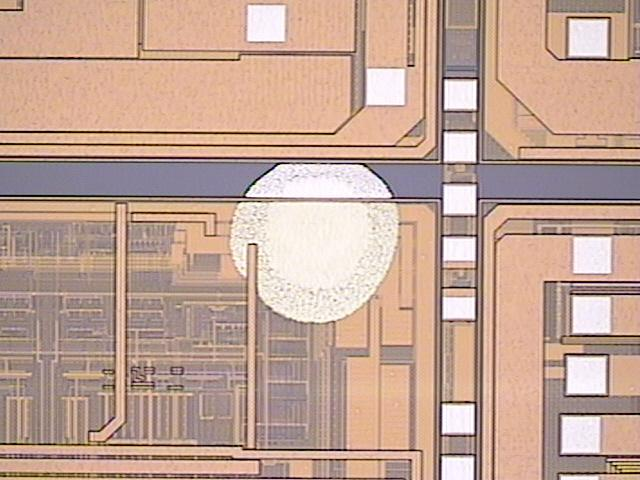BLOCK ETCH: (227, 153, 408, 330)
